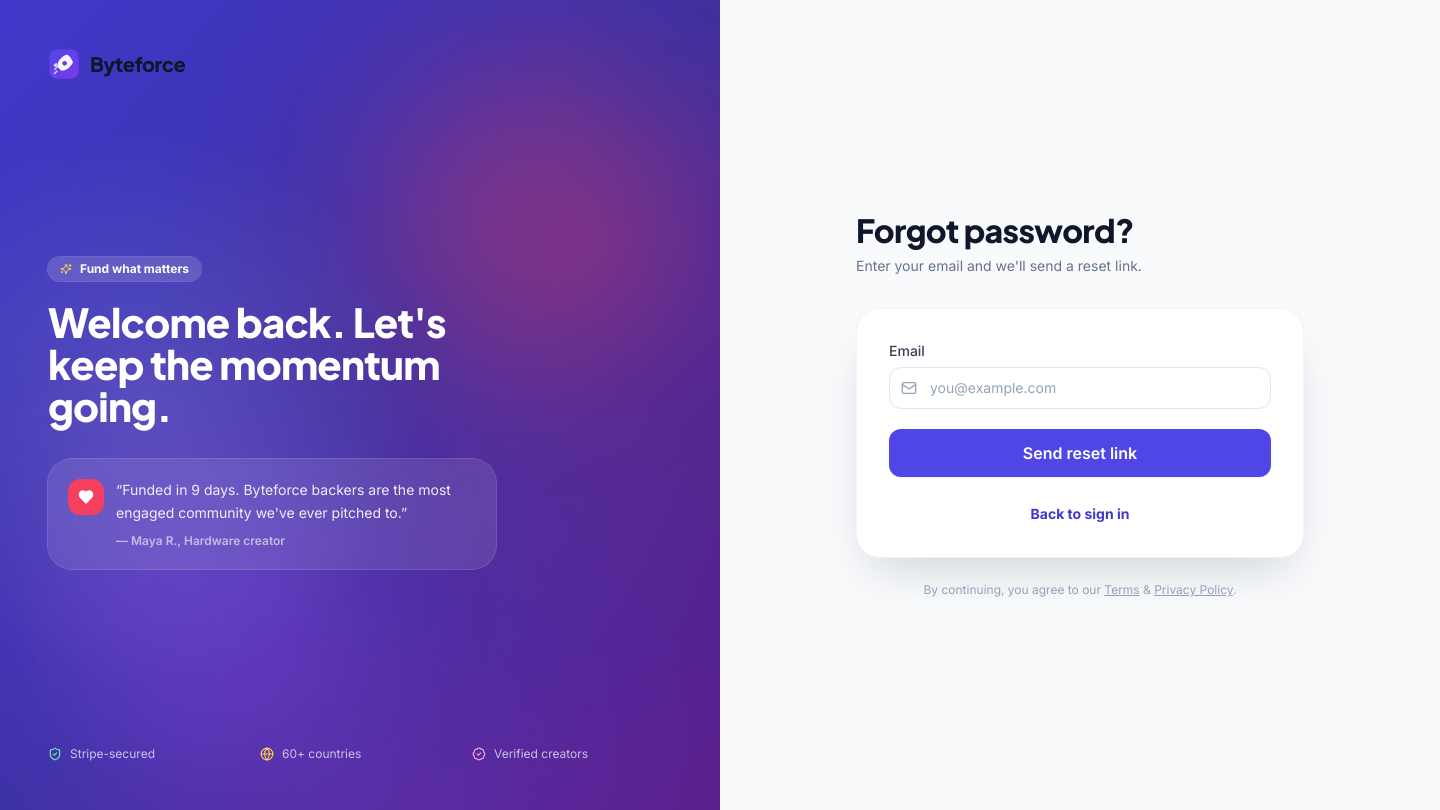
Test: ForgotPasswordPage › shows success state after email sent
In the field with placeholder "you@example.com": coordinates (1080, 388) [889,367,1271,409], type "user@example.com"
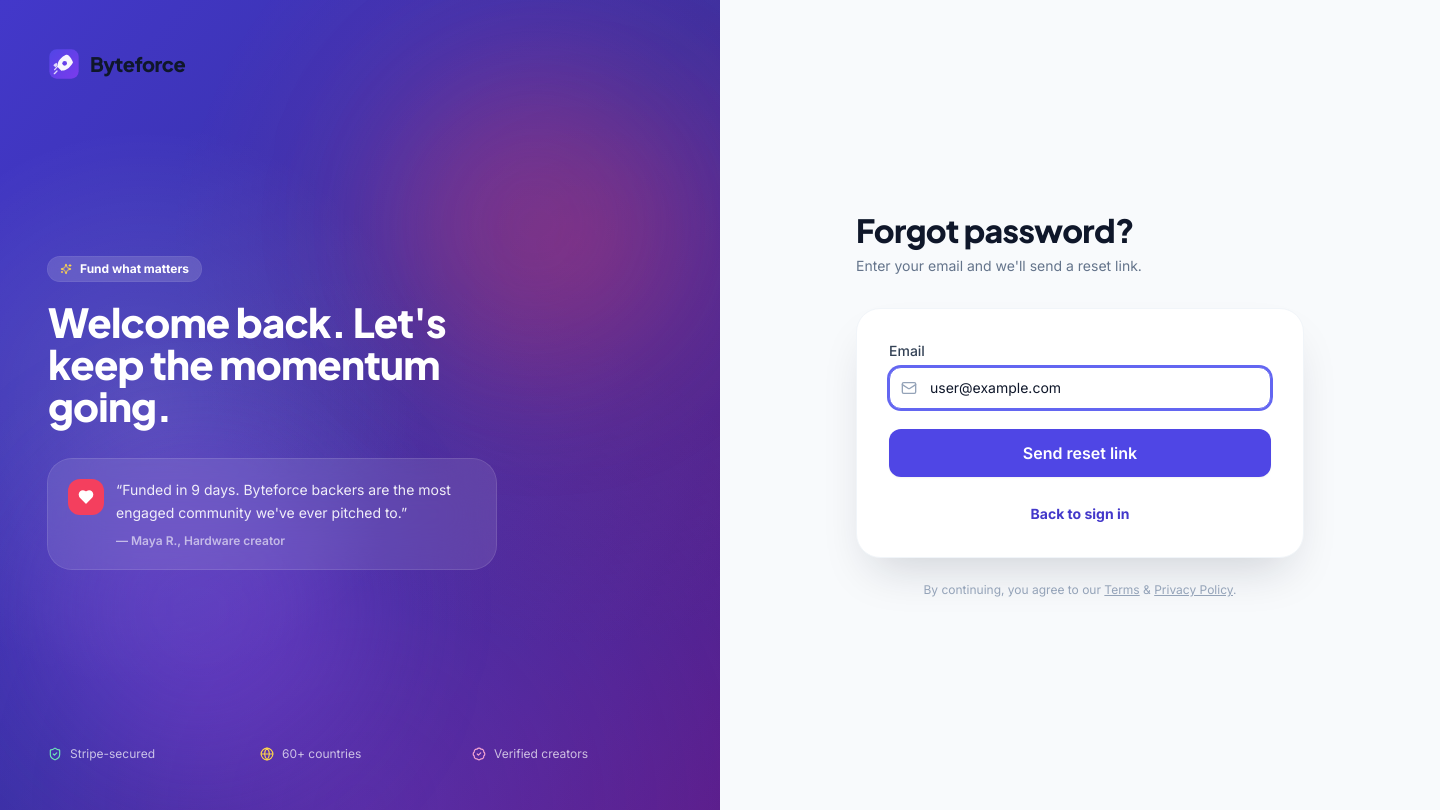
Click the button "Send reset link": coordinates (1080, 453) [889,429,1271,477]
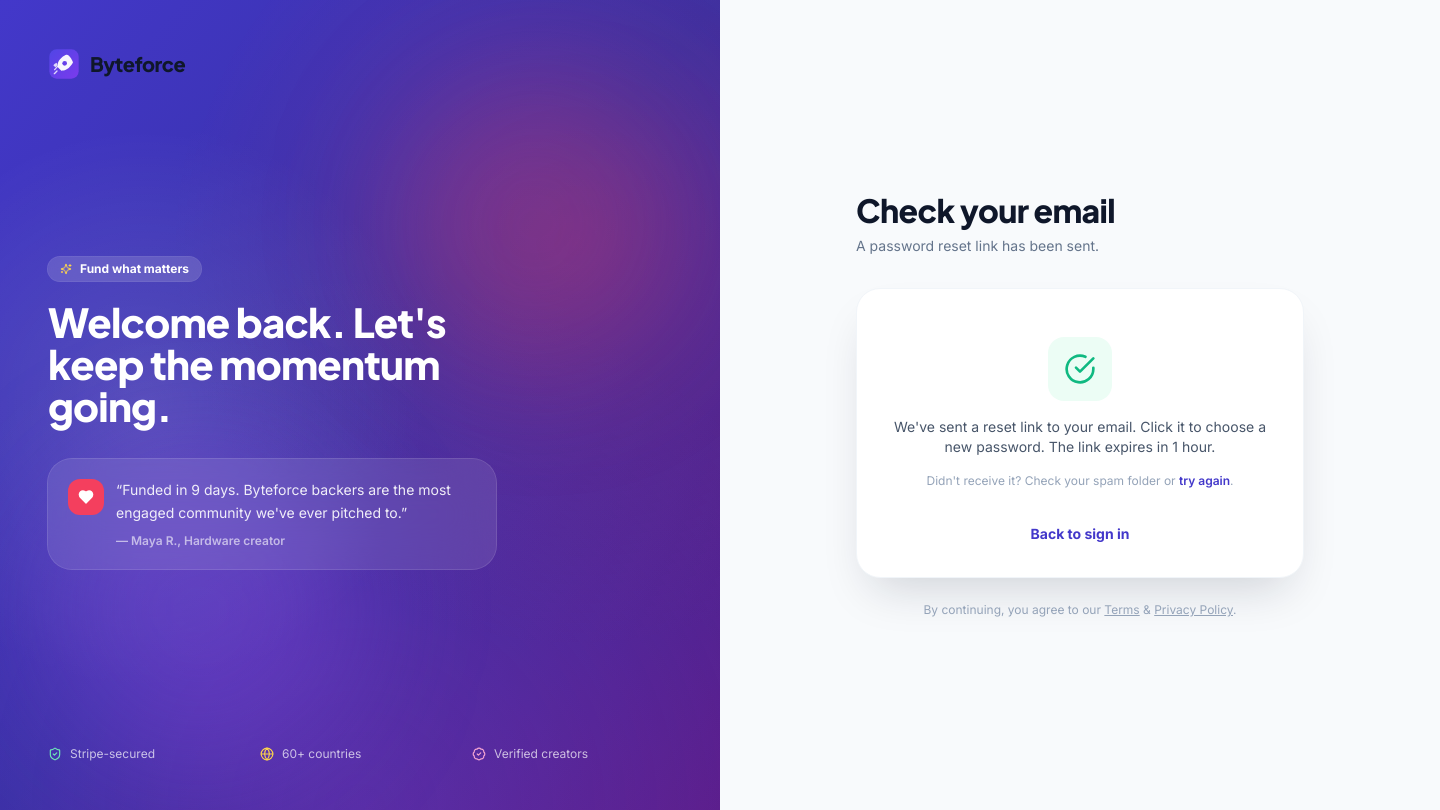
Result: the heading "Check your email" is shown at [856,190,1115,230]
